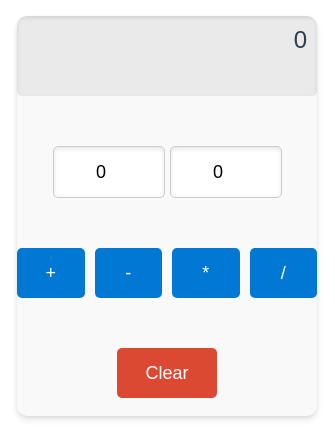
Scenario: Simple Calculator suite › should reset inputs and display when clear button is clicked
The image size is (335, 438).
Replace the text in the 1st number field with "30": (108, 172) [52,146,164,198]
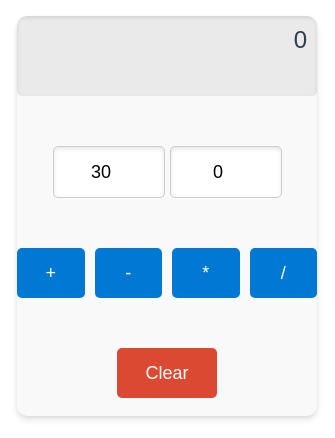
Replace the text in the 2nd number field with "50": (226, 172) [170,146,282,198]
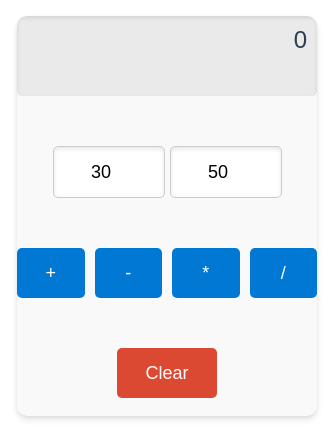
Click the button "+": (51, 273) [17,248,84,298]
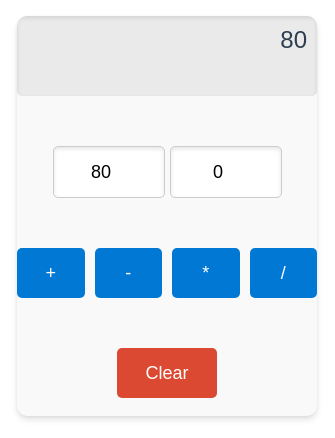
Expected: the text with class "display" reads "80", [280,26,307,53]
Expected: the 1st number field holds "80", [52,146,164,198]
Click the button with class "clear": (167, 373) [117,348,217,398]
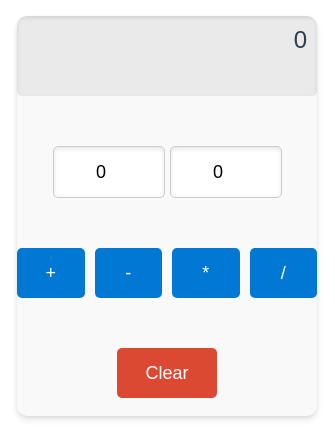
Expected: the text with class "display" reads "0", [294,26,307,53]
Expected: the 2nd number field holds "0", [170,146,282,198]
Expected: the 1st number field holds "0", [52,146,164,198]
